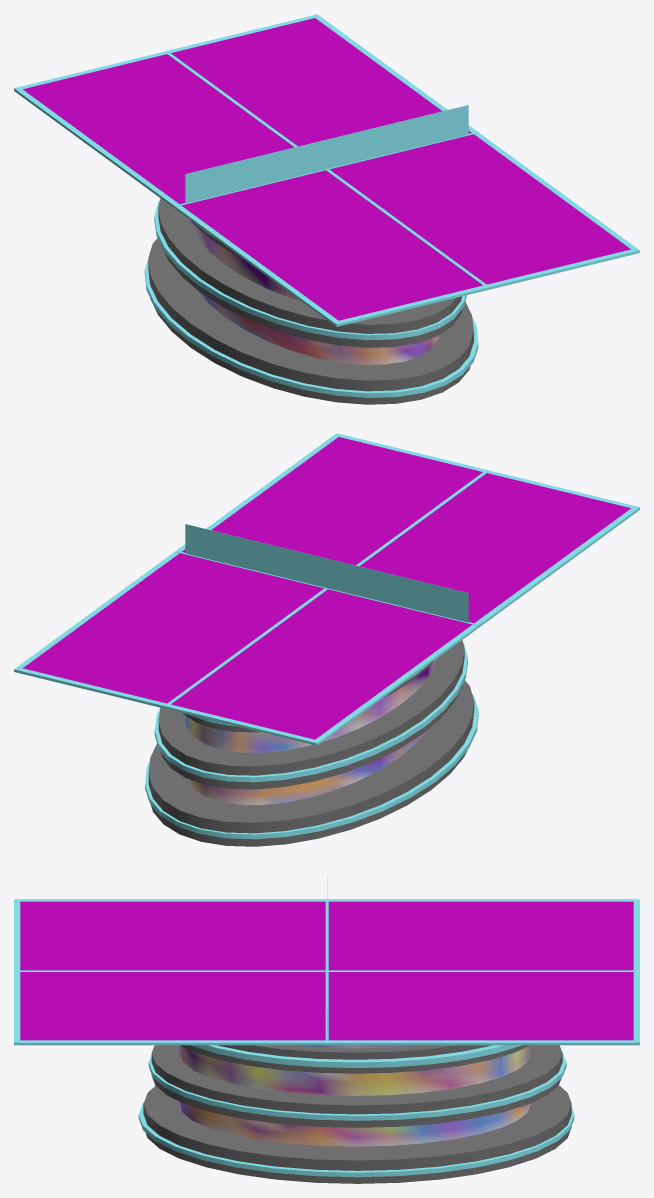
The picture shows the model from 3 angles, top to bottom: view 1: azimuth 30°, elevation 25°; view 2: azimuth 150°, elevation 25°; view 3: azimuth 270°, elevation 25°; orthographic projection. The views are drawn at different scales.
Visible parts, largest first — view 1: Object_9, Object_5; view 2: Object_9, Object_5; view 3: Object_9.
Part boxes in pixels (x1,y1,x2,y2): Object_9: (14, 14, 639, 404); Object_5: (185, 105, 468, 203); Object_9: (14, 433, 639, 846); Object_5: (185, 524, 468, 622); Object_9: (14, 899, 639, 1183).
Bounding box in the file's own units: 1.72 × 1.03 × 3.16.
